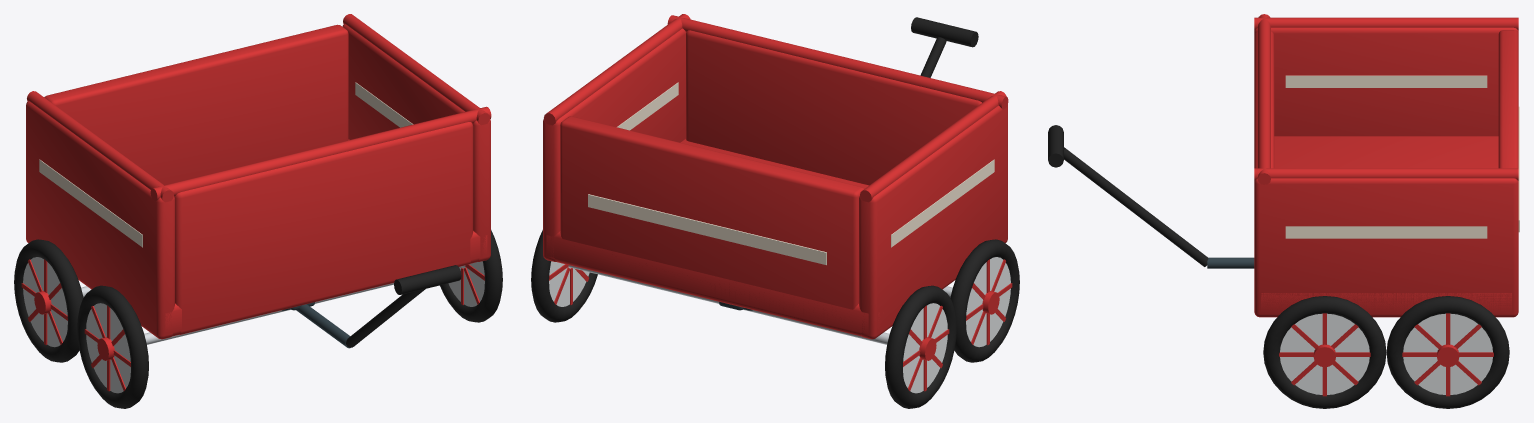
Rendered from wagon.fbx.
3 renders of one model, left to right at view 1: azimuth 30°, elevation 25°; view 2: azimuth 150°, elevation 25°; view 3: azimuth 270°, elevation 25°, orthographic. The views are drawn at different scales.
Visible parts, largest first — view 1: Body, Tailgate, Wheel_3, Wheel_1, Wheel_2; view 2: Body, Tailgate, Wheel_1, Wheel_3, Wheel_0; view 3: Body, Wheel_0, Wheel_2, Tailgate.
Boxes of the visible parts, left/top/right/bottom form: Body: left=26, top=14, right=491, bottom=348; Tailgate: left=44, top=24, right=348, bottom=185; Wheel_3: left=77, top=285, right=148, bottom=408; Wheel_1: left=14, top=239, right=83, bottom=362; Wheel_2: left=440, top=230, right=502, bottom=322; Body: left=543, top=14, right=1008, bottom=344; Tailgate: left=560, top=116, right=864, bottom=330; Wheel_1: left=885, top=285, right=956, bottom=408; Wheel_3: left=950, top=239, right=1019, bottom=362; Wheel_0: left=531, top=230, right=597, bottom=322; Body: left=1048, top=14, right=1518, bottom=317; Wheel_0: left=1386, top=296, right=1509, bottom=408; Wheel_2: left=1263, top=296, right=1386, bottom=408; Tailgate: left=1498, top=30, right=1519, bottom=232.
Bounding box in the file's own units: 3.76 × 2.27 × 4.21.
